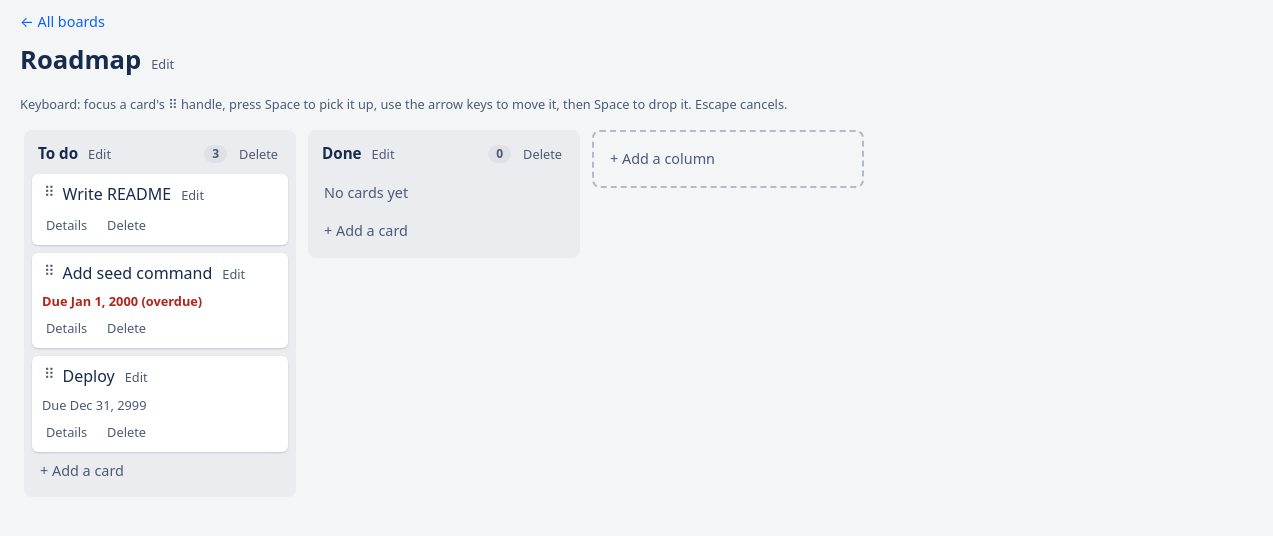
Test: BoardPage board › renames the board
Click the button with aria-label "Edit name of board Roadmap" at (163, 64), box [147,53,178,76]
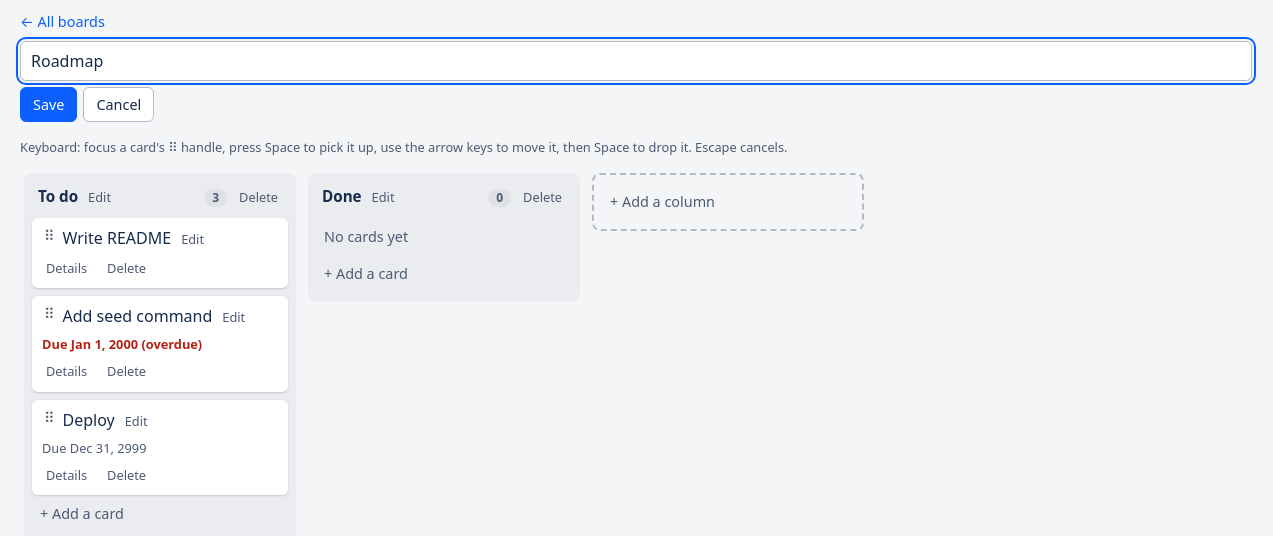
Replace the text in the field named "Edit name of board Roadmap" with "Sprint" at (636, 61), box [20,41,1252,81]
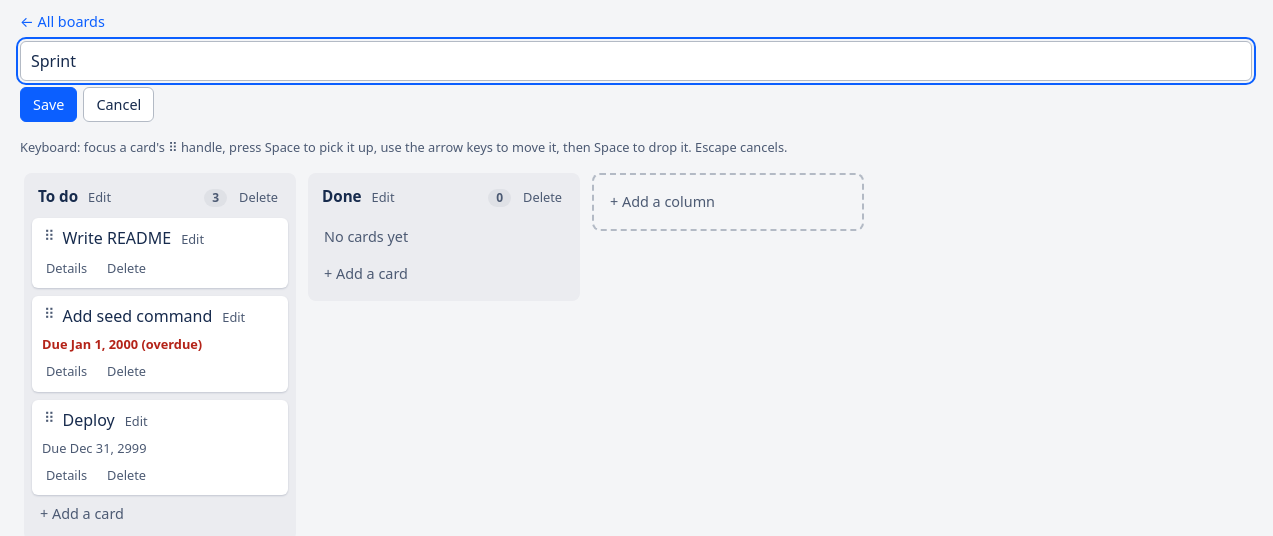
Click the button "Save" at (49, 104), box [20,87,77,122]
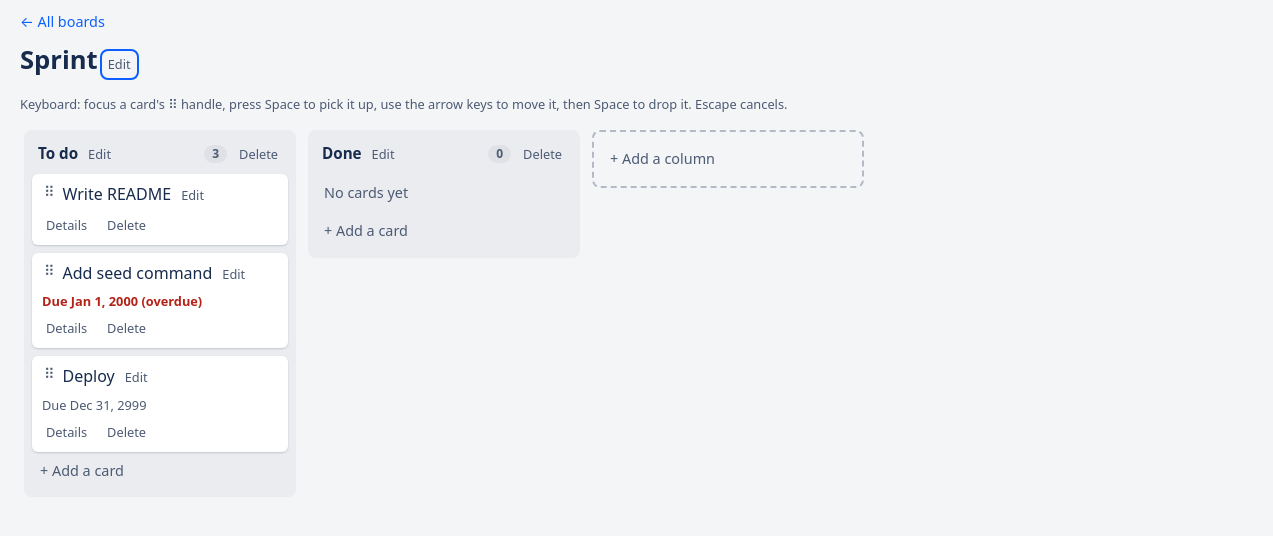
expect the heading "Sprint" is shown: met, box [20,41,98,79]
